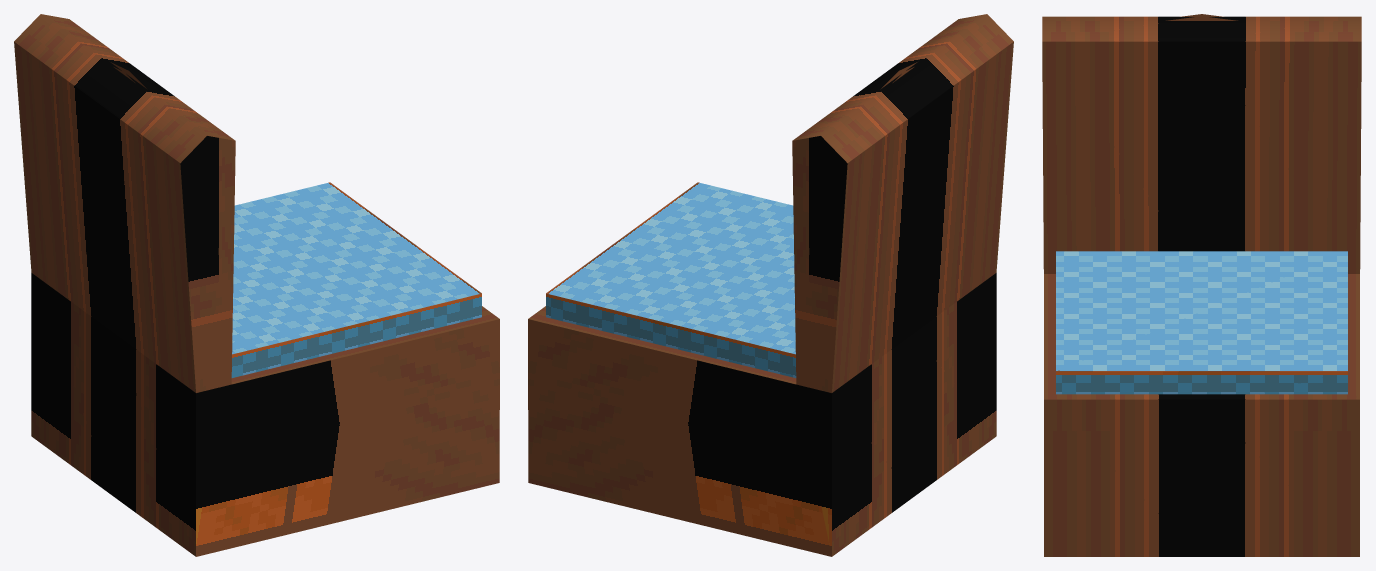
3 views of the same model, side by side, from view 1: azimuth 30°, elevation 25°; view 2: azimuth 150°, elevation 25°; view 3: azimuth 270°, elevation 25° (orthographic). The views are drawn at different scales.
Parts seen in each view (by area): view 1: 3573kg_14_isu; view 2: 3573kg_14_isu; view 3: 3573kg_14_isu.
Boxes of the visible parts, bbox=[...] form: 3573kg_14_isu: bbox=[14, 14, 499, 556]; 3573kg_14_isu: bbox=[528, 14, 1013, 556]; 3573kg_14_isu: bbox=[1042, 14, 1361, 556].
Size of the model in its own units: 0.7869 by 0.9907 by 0.7075.
1 material, 1 textured.
